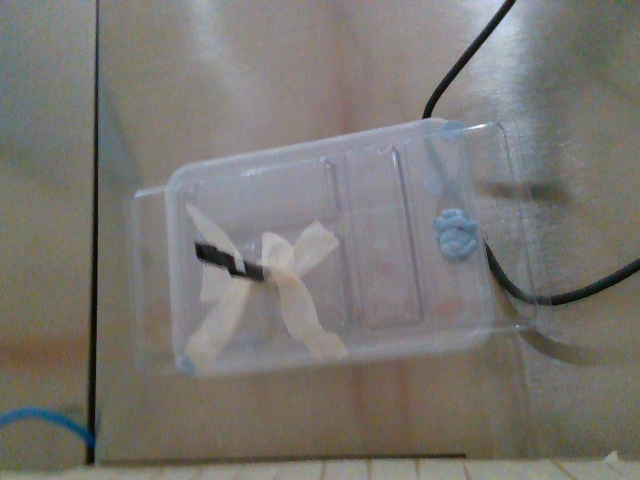test_strip: (190, 238, 243, 273)
